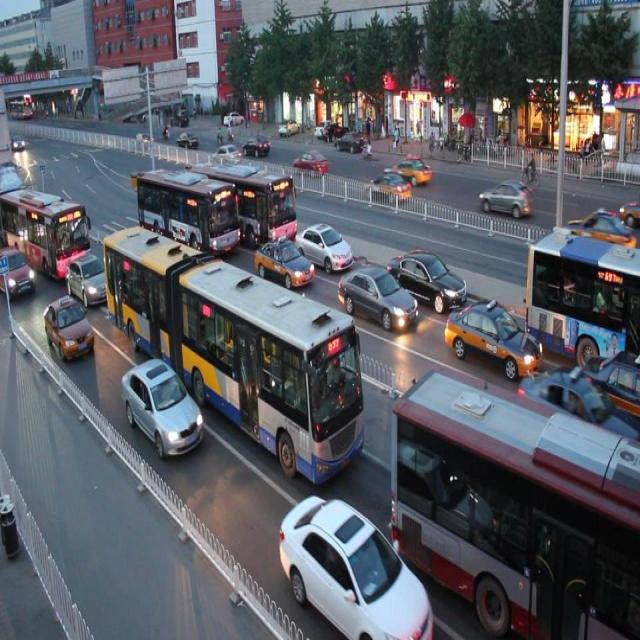car: (279, 484, 431, 640), (514, 368, 640, 491), (446, 294, 544, 382), (122, 356, 205, 456), (337, 258, 416, 331), (390, 243, 468, 309), (580, 343, 640, 414), (43, 295, 96, 365), (253, 230, 314, 289), (294, 214, 352, 273), (66, 253, 116, 308), (1, 243, 36, 302)
van: (102, 218, 366, 482), (392, 371, 640, 640), (524, 225, 640, 360), (191, 153, 298, 248), (136, 164, 240, 254), (1, 182, 90, 272)
